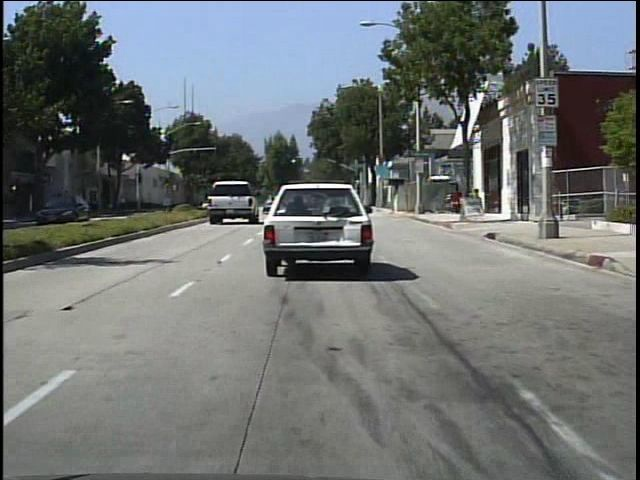person: (57, 197, 68, 221), (119, 195, 129, 214)
